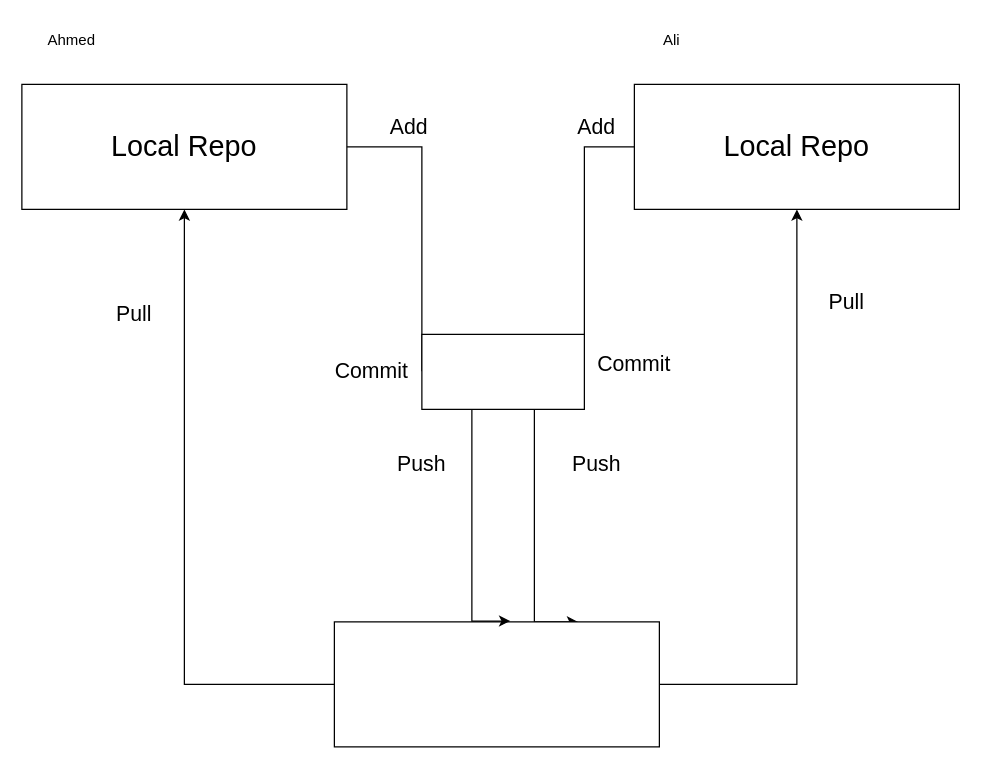
Image size: 981x769. Some labels were removed from this diagram. The shapes that lost their labels are listed below. From the top down, each one's centre as x and y in pixels, then its label:
At pixel 502 371: "Staging Area".
At pixel 496 684: "Remote Repo".
